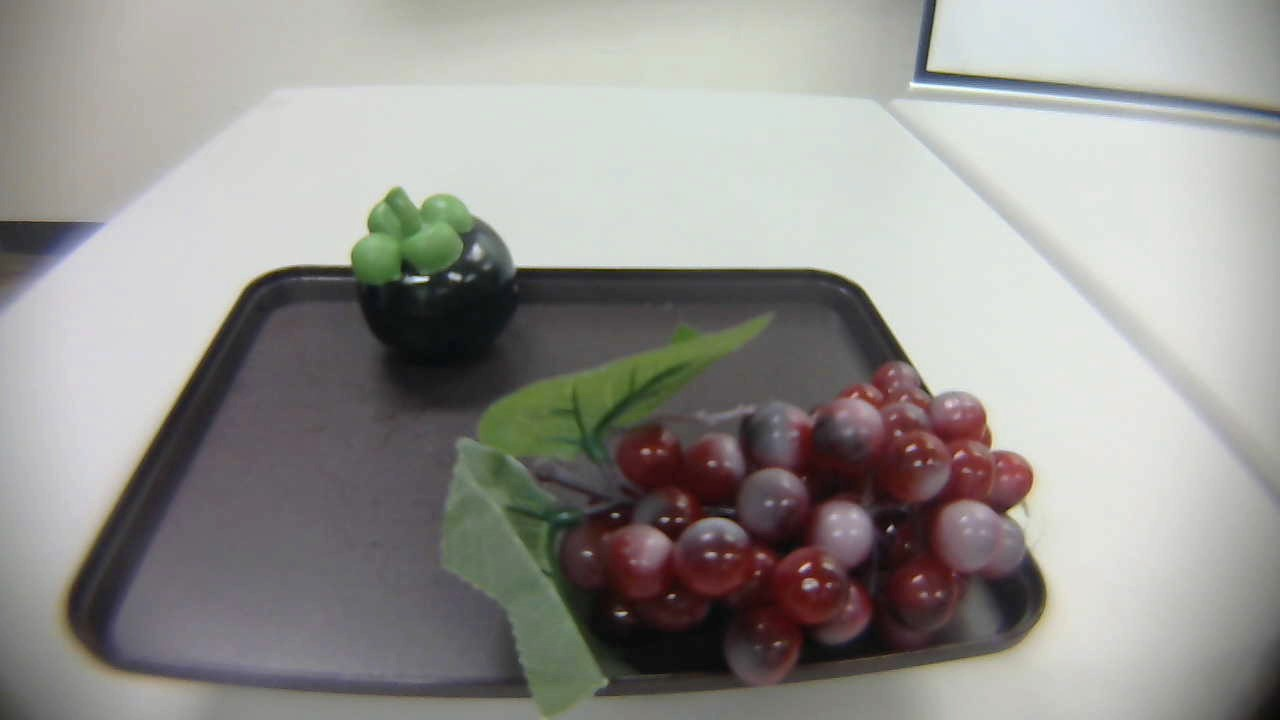grape: (430, 306, 1037, 719)
mangosteen: (338, 175, 527, 375)
